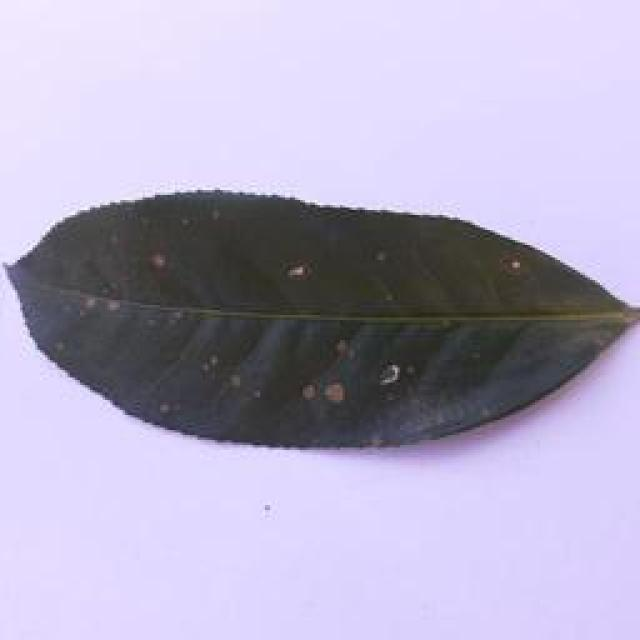Algal Leaf Spot: (0, 167, 640, 452)
